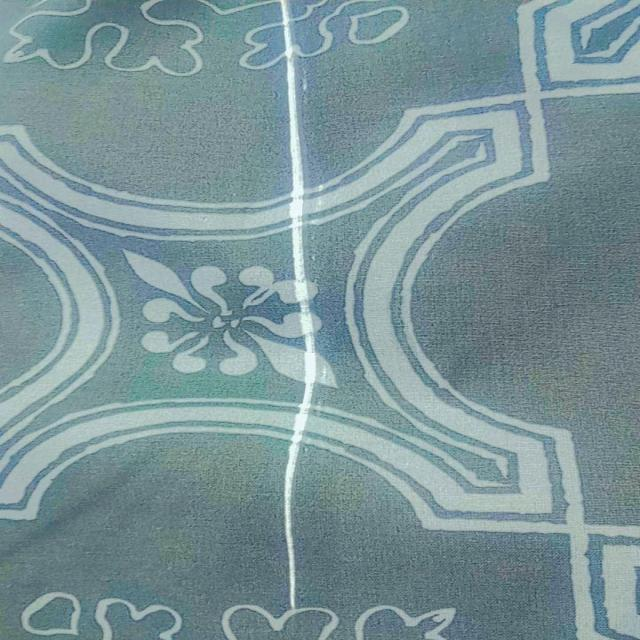selvet: (270, 2, 318, 624)
